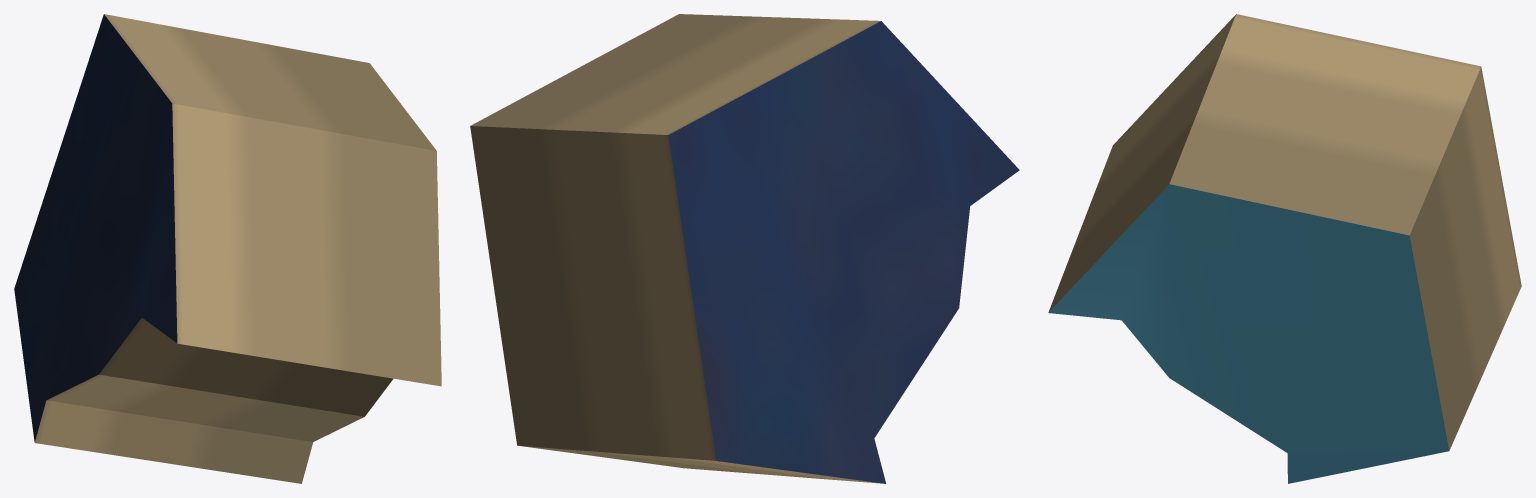
File: 0617_Cambodia.glb
3 renders of one model, left to right at view 1: azimuth 30°, elevation 25°; view 2: azimuth 150°, elevation 25°; view 3: azimuth 270°, elevation 25°, orthographic. The views are drawn at different scales.
Visible parts, largest first — view 1: part_0; view 2: part_0; view 3: part_0.
Boxes of the visible parts, x1=… form: part_0: x1=14, y1=14, x2=441, y2=483; part_0: x1=470, y1=14, x2=1019, y2=483; part_0: x1=1048, y1=14, x2=1521, y2=483.
Size of the model in its own units: 0.2962 by 0.34 by 0.3648.
1 material, 1 textured.
